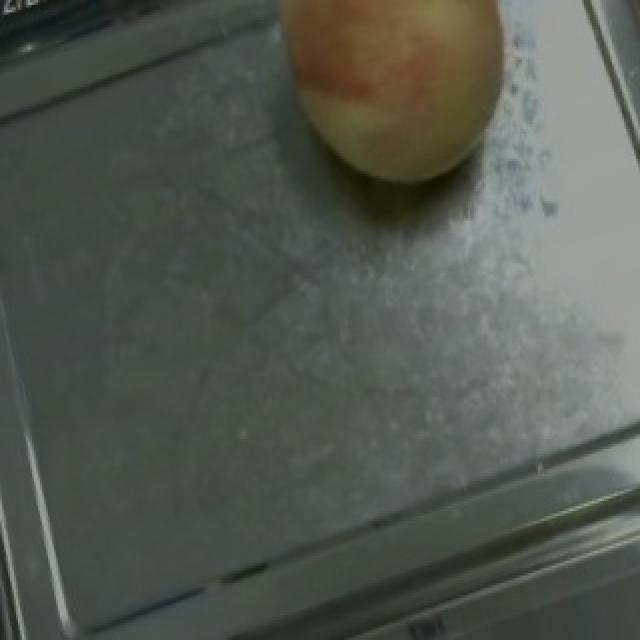Fruit: (236, 0, 550, 223)
